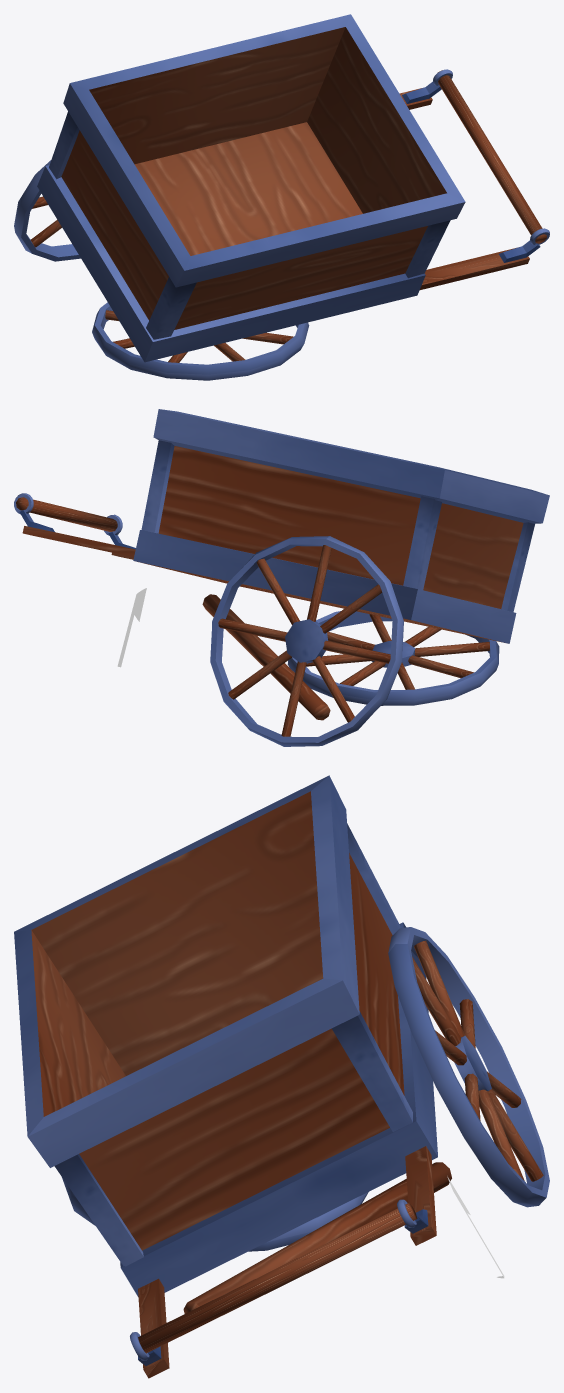
The model's file is BrokenWheelbarrow.fbx.
3 renders of one model, top to bottom at view 1: azimuth 30°, elevation 25°; view 2: azimuth 150°, elevation 25°; view 3: azimuth 270°, elevation 25°, orthographic. The views are drawn at different scales.
Visible parts, largest first — view 1: BrokenWheelbarrow; view 2: BrokenWheelbarrow; view 3: BrokenWheelbarrow.
Boxes of the visible parts, box(x1,y1,x2,y2) form: BrokenWheelbarrow: box(14, 14, 549, 380); BrokenWheelbarrow: box(14, 409, 549, 746); BrokenWheelbarrow: box(14, 775, 549, 1378).
Size of the model in its own units: 254 by 144 by 198.
